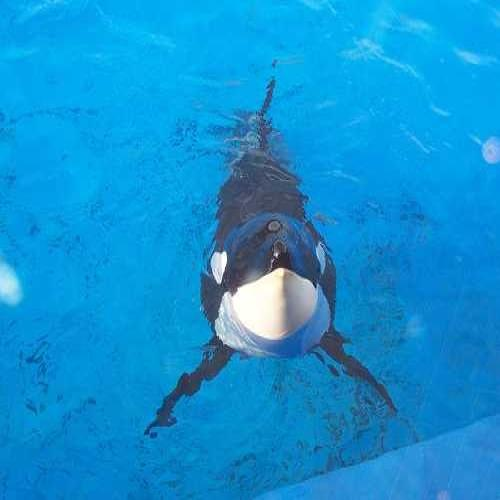killer_whale-endangered: (184, 93, 371, 395)
